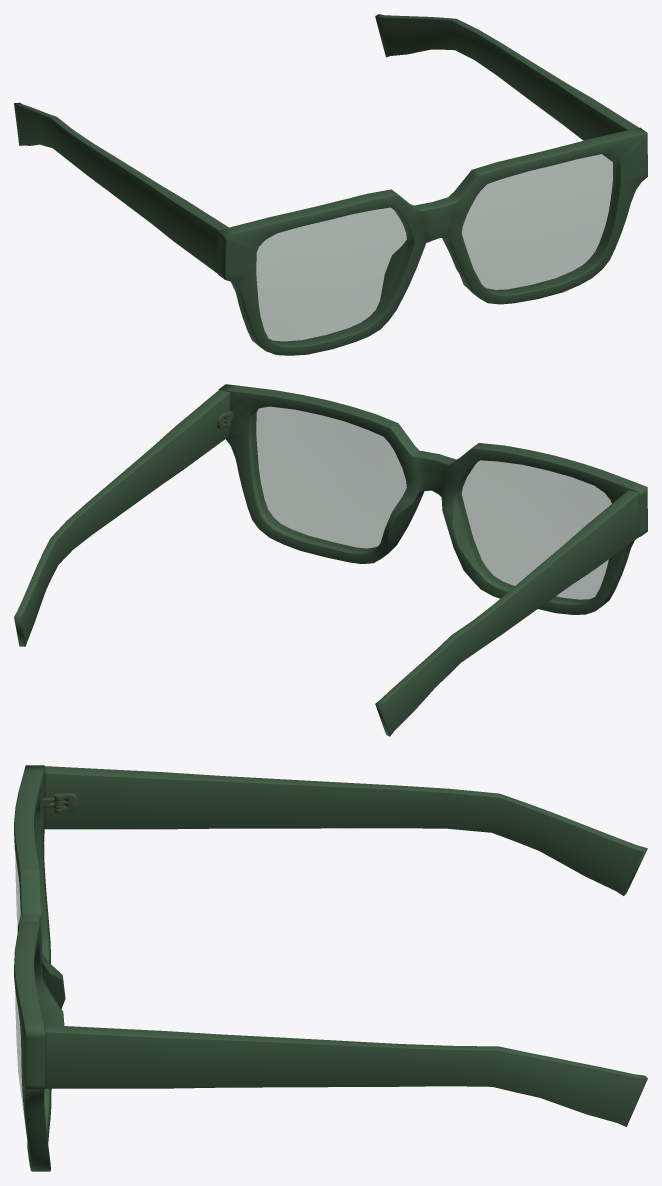
Rendered from yuvarlak-retro-zeytin-yesili.glb.
The picture shows the model from 3 angles, top to bottom: view 1: azimuth 30°, elevation 25°; view 2: azimuth 150°, elevation 25°; view 3: azimuth 270°, elevation 25°; orthographic projection. The views are drawn at different scales.
Parts seen in each view (by area): view 1: OPTIK_PRODUCT_279; view 2: OPTIK_PRODUCT_279; view 3: OPTIK_PRODUCT_279.
Part boxes in pixels (x1,y1,x2,y2): OPTIK_PRODUCT_279: [14, 14, 647, 355]; OPTIK_PRODUCT_279: [14, 384, 647, 736]; OPTIK_PRODUCT_279: [14, 765, 647, 1171].
Bounding box in the file's own units: 0.1534 × 0.0504 × 0.1538.
